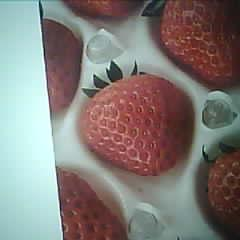straw-ripe: (81, 76, 185, 176)
